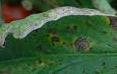Tomato leaf bacterial spot: (0, 1, 117, 74)
